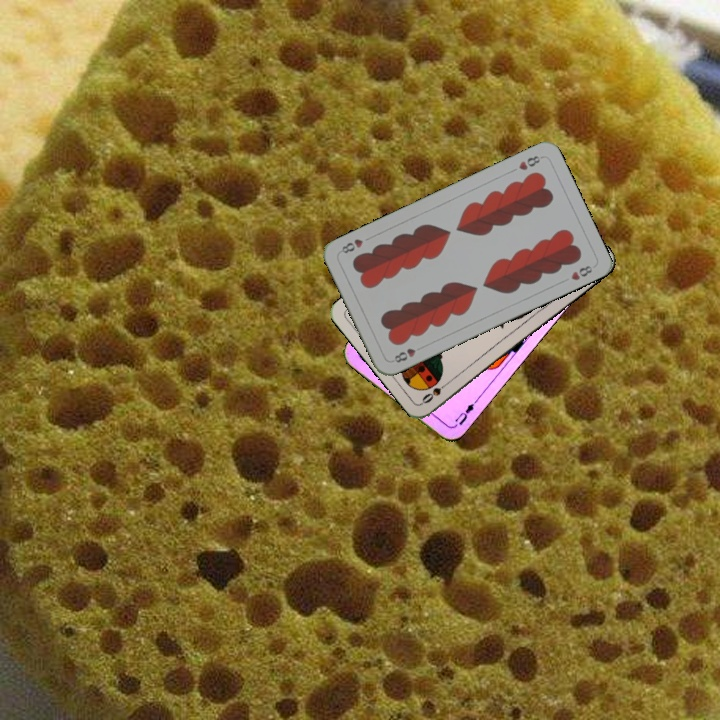EU: (448, 397, 480, 430)
H8: (390, 343, 426, 365), (514, 151, 545, 173)
SO: (417, 377, 453, 406)
